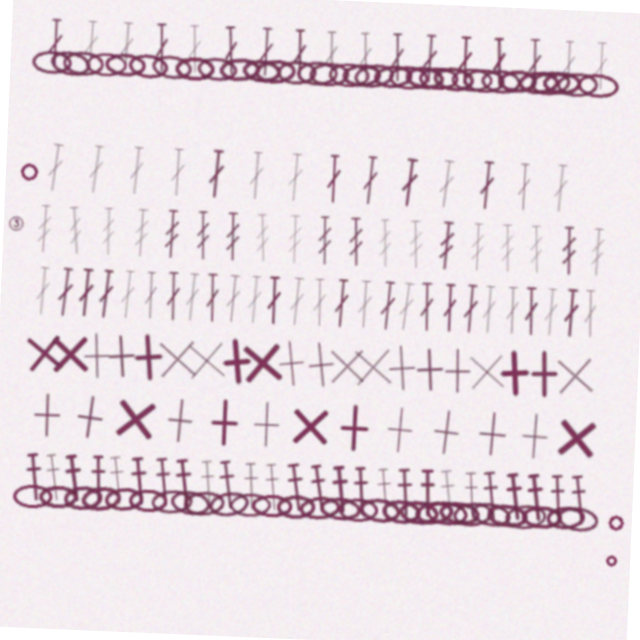chain: (215, 492, 259, 523), (38, 59, 82, 89), (342, 59, 386, 89), (421, 493, 464, 523), (477, 493, 521, 522), (87, 493, 130, 522), (459, 493, 502, 522), (158, 494, 202, 522), (190, 494, 234, 522), (564, 494, 608, 522), (519, 59, 561, 88), (140, 60, 183, 88), (306, 494, 349, 522), (512, 494, 555, 522), (362, 60, 404, 88), (177, 494, 219, 522), (243, 60, 286, 87), (366, 494, 409, 521), (433, 494, 476, 521), (117, 60, 159, 87), (208, 60, 250, 87), (422, 60, 464, 87), (70, 494, 112, 521), (111, 494, 153, 521), (446, 494, 488, 521), (553, 494, 595, 521), (566, 61, 609, 87), (298, 61, 340, 87), (507, 61, 549, 87), (546, 61, 588, 87), (237, 495, 279, 521), (327, 495, 369, 521), (494, 495, 536, 521), (186, 61, 227, 87), (231, 61, 272, 87), (331, 61, 372, 87), (394, 61, 435, 87), (470, 61, 511, 87), (389, 495, 430, 521), (406, 495, 447, 521), (286, 61, 328, 86), (52, 61, 93, 86), (94, 61, 135, 86), (487, 61, 528, 86), (453, 62, 495, 86), (266, 61, 306, 86), (532, 61, 572, 86), (284, 495, 324, 520), (75, 62, 116, 86), (318, 62, 359, 86), (408, 62, 449, 86), (441, 62, 482, 86), (20, 496, 61, 520), (259, 496, 300, 520), (529, 496, 570, 520), (21, 62, 61, 86), (164, 62, 204, 86), (378, 62, 418, 86), (46, 496, 86, 520), (136, 496, 176, 520), (346, 496, 386, 520)
double: (38, 154, 60, 204), (393, 154, 414, 204), (430, 154, 451, 204), (54, 278, 75, 328), (395, 278, 416, 328), (80, 154, 100, 204), (95, 278, 115, 328), (377, 278, 397, 328), (117, 278, 137, 327), (286, 278, 306, 327), (174, 30, 193, 79), (210, 30, 229, 79), (121, 154, 140, 203), (201, 154, 220, 203), (280, 154, 299, 203), (355, 154, 374, 203), (182, 278, 201, 327), (345, 30, 363, 79), (410, 30, 428, 79), (479, 30, 497, 79), (515, 30, 533, 79), (472, 154, 490, 203), (546, 154, 564, 203), (33, 278, 51, 327), (76, 278, 94, 327), (223, 278, 241, 327), (245, 278, 263, 327), (310, 278, 328, 327), (332, 278, 350, 327), (355, 278, 373, 327), (417, 278, 435, 327), (461, 278, 479, 327), (71, 30, 88, 79), (107, 30, 124, 79), (142, 30, 159, 79), (280, 30, 297, 79), (312, 30, 329, 79), (378, 30, 395, 79), (163, 154, 180, 203), (242, 154, 259, 203), (164, 278, 181, 327), (203, 278, 220, 327), (480, 278, 497, 327), (522, 278, 539, 327), (542, 278, 559, 327), (562, 278, 579, 327), (581, 278, 598, 327), (36, 30, 52, 79), (247, 30, 263, 79), (446, 30, 462, 79), (550, 30, 566, 79), (582, 30, 598, 79), (320, 154, 336, 203), (510, 154, 526, 203), (142, 278, 158, 327), (265, 278, 281, 327), (441, 278, 457, 327), (504, 278, 520, 327)
half_double: (67, 463, 94, 514), (222, 463, 248, 514), (290, 463, 316, 514), (313, 463, 339, 514), (509, 463, 535, 514), (530, 463, 556, 514), (48, 463, 73, 514), (112, 463, 137, 514), (134, 463, 159, 514), (158, 463, 183, 514), (179, 463, 204, 514), (335, 463, 360, 514), (443, 463, 468, 514), (486, 463, 511, 514), (574, 463, 599, 514), (29, 464, 53, 514), (203, 464, 227, 514), (380, 464, 404, 514), (268, 464, 291, 514), (357, 464, 380, 514), (401, 464, 424, 514), (247, 464, 269, 514), (554, 464, 576, 514), (468, 464, 489, 514), (424, 464, 445, 513), (95, 464, 115, 513)
noise: (12, 173, 34, 195), (615, 501, 634, 520), (3, 227, 21, 245), (615, 542, 628, 555)
single: (266, 337, 321, 392), (295, 337, 350, 392), (19, 337, 73, 392), (181, 338, 235, 392), (211, 338, 265, 392), (237, 338, 291, 392), (97, 338, 150, 391), (124, 338, 177, 391), (152, 338, 205, 391), (348, 338, 401, 391), (377, 338, 430, 391), (462, 338, 515, 391), (550, 338, 603, 391), (67, 400, 120, 453), (113, 400, 166, 453), (72, 339, 124, 391), (406, 339, 458, 391), (491, 339, 543, 391), (425, 401, 477, 453), (555, 401, 607, 453), (46, 339, 97, 390), (323, 339, 374, 390), (521, 339, 572, 390), (159, 401, 210, 452), (379, 401, 430, 452), (471, 401, 522, 452), (434, 340, 484, 390), (514, 402, 564, 452), (27, 402, 76, 451), (204, 402, 253, 451), (246, 402, 295, 451), (290, 402, 339, 451), (334, 402, 383, 451)
treble: (62, 216, 82, 266), (343, 216, 362, 265), (403, 216, 422, 265), (434, 216, 453, 265), (129, 216, 147, 265), (250, 216, 268, 265), (373, 216, 391, 265), (495, 216, 513, 265), (524, 216, 542, 265), (557, 216, 575, 265), (32, 216, 49, 265), (160, 216, 177, 265), (191, 216, 208, 265), (221, 216, 238, 265), (283, 216, 300, 265), (313, 216, 330, 265), (466, 216, 483, 265), (586, 216, 603, 265), (97, 216, 113, 265)
